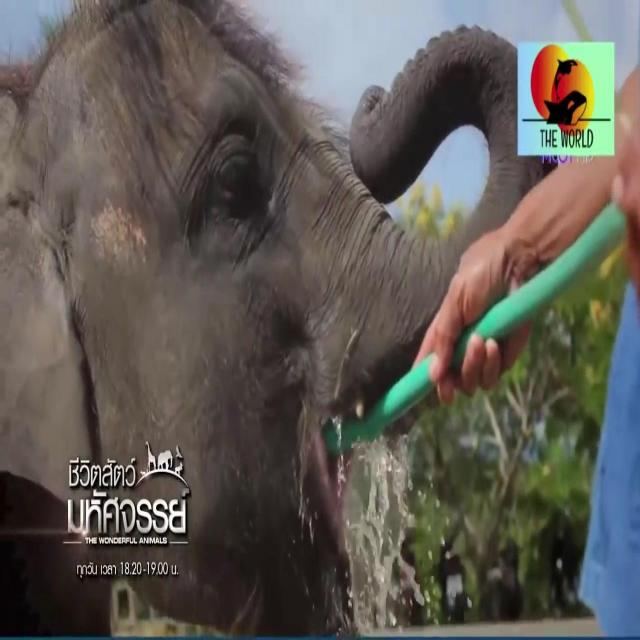Elephant: (3, 3, 465, 457)
